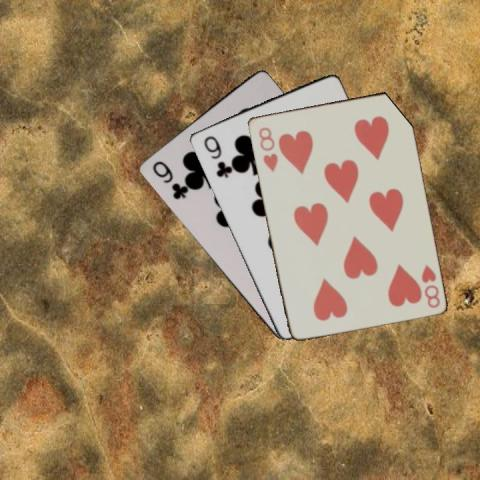8h: (255, 124, 279, 174), (418, 261, 441, 309)
9c: (149, 158, 187, 202), (200, 133, 231, 179)
